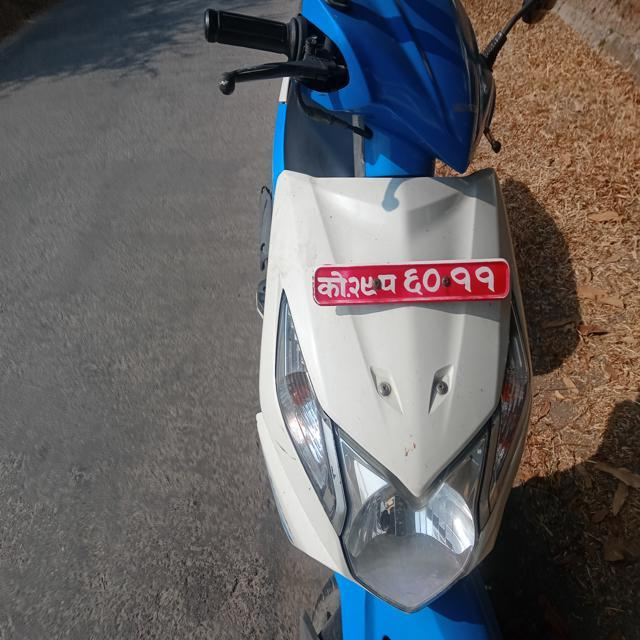license_plate: (304, 240, 516, 324)
